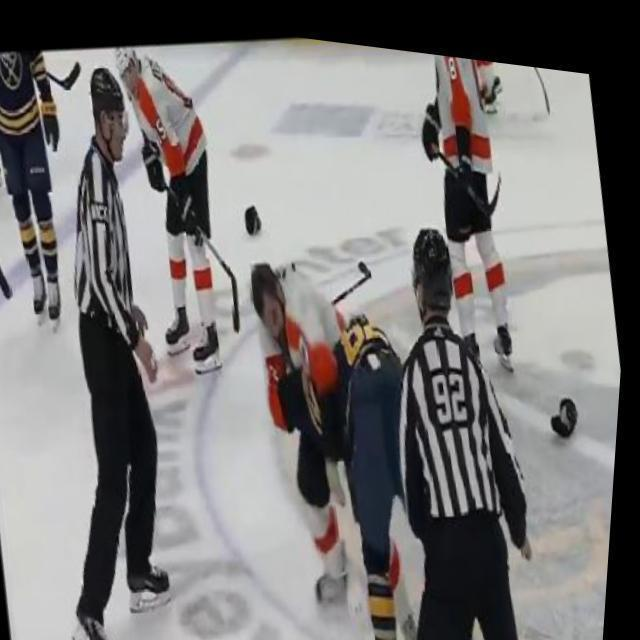fight: (226, 225, 484, 640)
